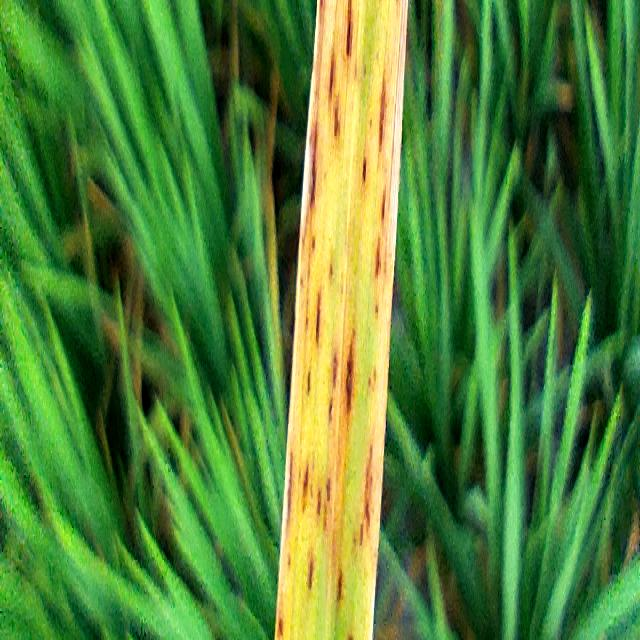NBS: (364, 446, 373, 533), (379, 71, 387, 150), (346, 341, 354, 415), (346, 0, 353, 58), (288, 449, 293, 516), (316, 288, 321, 347), (329, 48, 334, 105), (308, 548, 314, 590), (375, 236, 381, 278), (334, 96, 340, 138), (332, 350, 337, 390), (381, 183, 386, 222), (338, 566, 343, 602), (303, 462, 308, 498), (317, 485, 321, 514), (346, 630, 356, 640), (362, 157, 366, 182), (327, 476, 330, 502), (307, 370, 310, 396), (360, 523, 363, 547)
